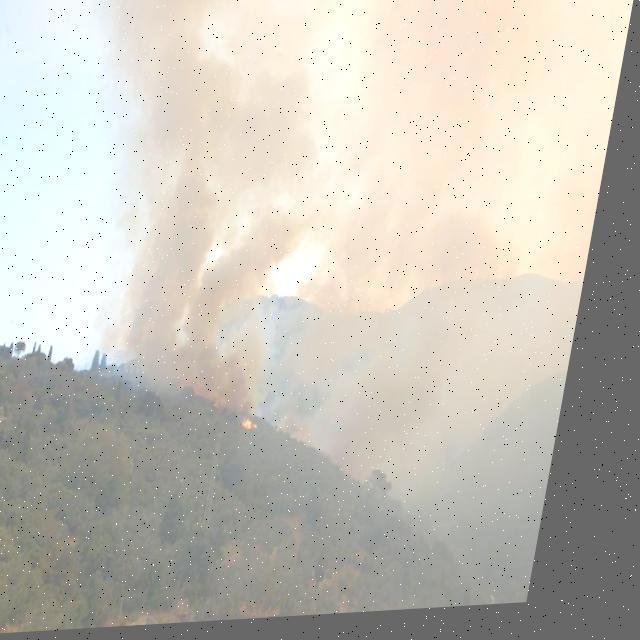Fire: (257, 418, 272, 434)
